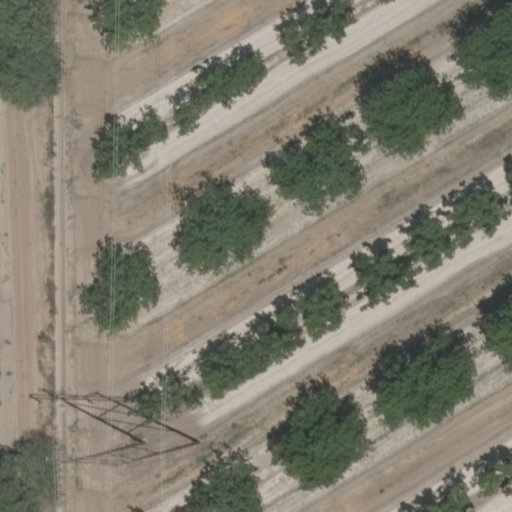TT: (40, 393, 202, 448)
